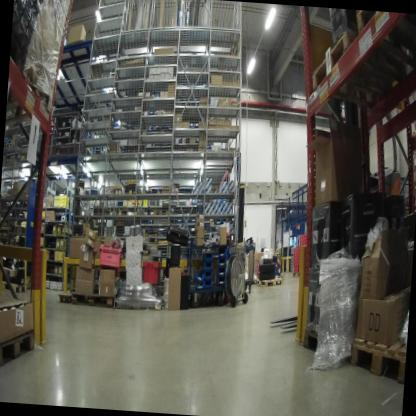pallet: (309, 27, 405, 118), (348, 12, 416, 86), (6, 65, 58, 140), (298, 315, 355, 374), (344, 336, 406, 387), (0, 326, 40, 379), (9, 13, 36, 77), (72, 288, 120, 318), (112, 295, 162, 320), (0, 275, 31, 305), (251, 271, 286, 291), (55, 286, 75, 307), (292, 271, 303, 279), (276, 272, 286, 280)
small_load_carrier: (95, 240, 128, 278), (138, 256, 163, 288), (292, 262, 302, 273)
